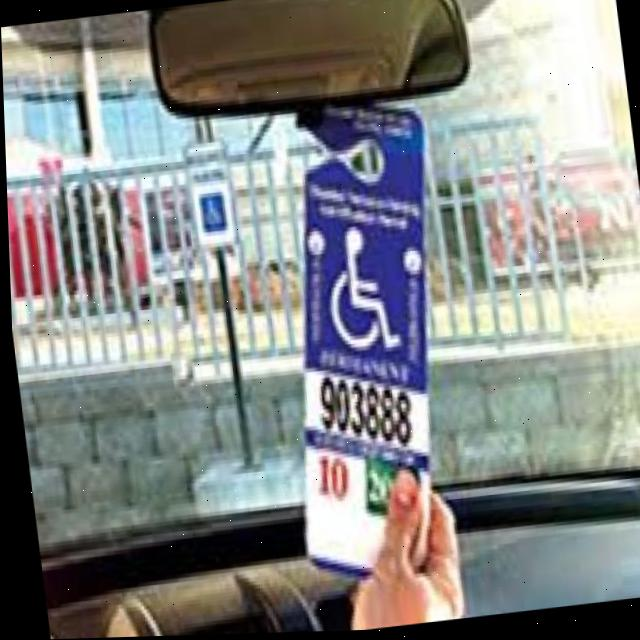symbol_of_access: (318, 220, 403, 362), (197, 196, 226, 237)
